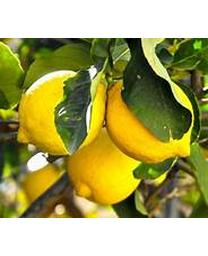lemon: (107, 76, 194, 160), (19, 70, 104, 154), (68, 127, 143, 204)
